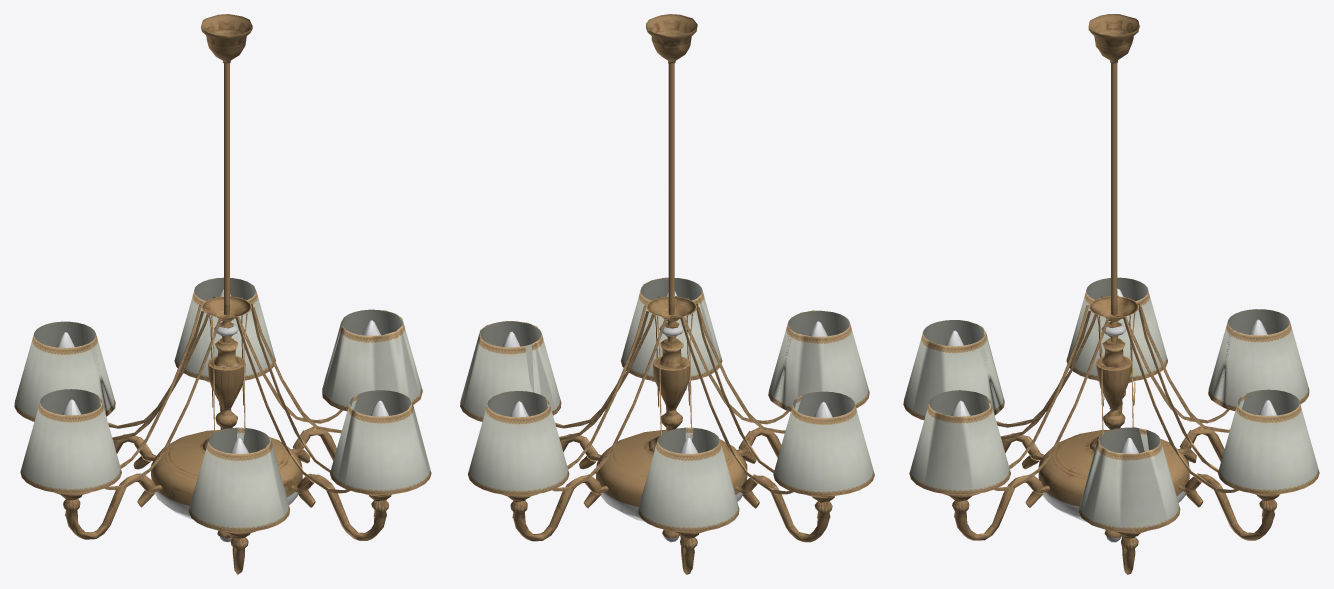
The model's file is chandelier-high.glb.
The picture shows the model from 3 angles, left to right: view 1: azimuth 30°, elevation 25°; view 2: azimuth 150°, elevation 25°; view 3: azimuth 270°, elevation 25°; orthographic projection.
Visible parts, largest first — view 1: Chandelier_02; view 2: Chandelier_02; view 3: Chandelier_02.
Part boxes in pixels (bbox=[...]): Chandelier_02: bbox=[14, 14, 431, 574]; Chandelier_02: bbox=[460, 14, 874, 574]; Chandelier_02: bbox=[903, 14, 1319, 574].
Size of the model in its own units: 0.6788 by 0.8481 by 0.619.
2 materials, 1 textured.
